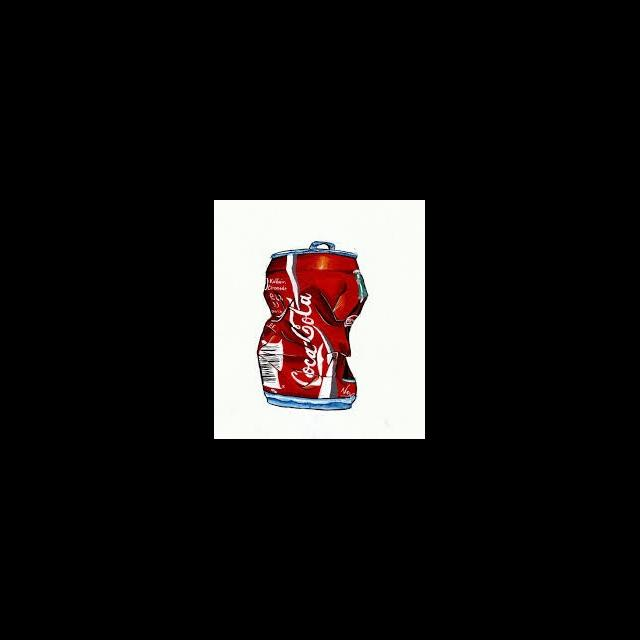metal: (250, 230, 372, 420)
